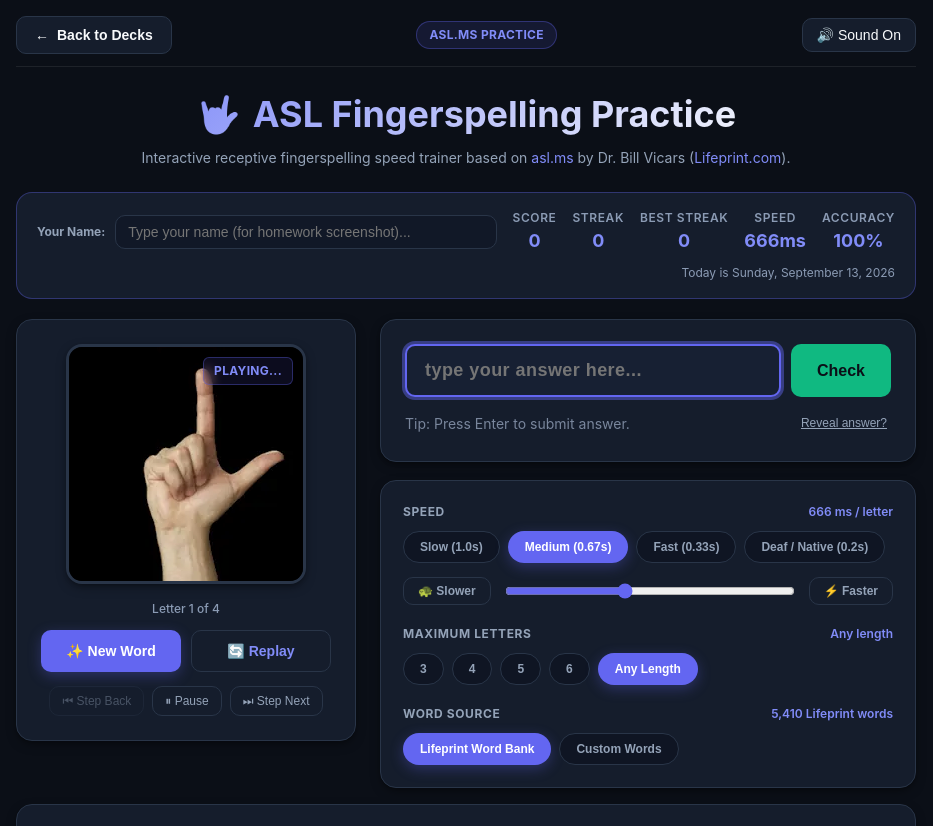
Tier 2: Boundary, Edge & Corner Cases › Boundary Area 5: Fingerspelling Tempo Limits & Word Bank Extremes › 5.2: Slow speed preset button sets 1000ms tempo
The image size is (933, 826).
Click the button "Slow (1.0s)". click: [451, 547]
box: [403,531,500,563]
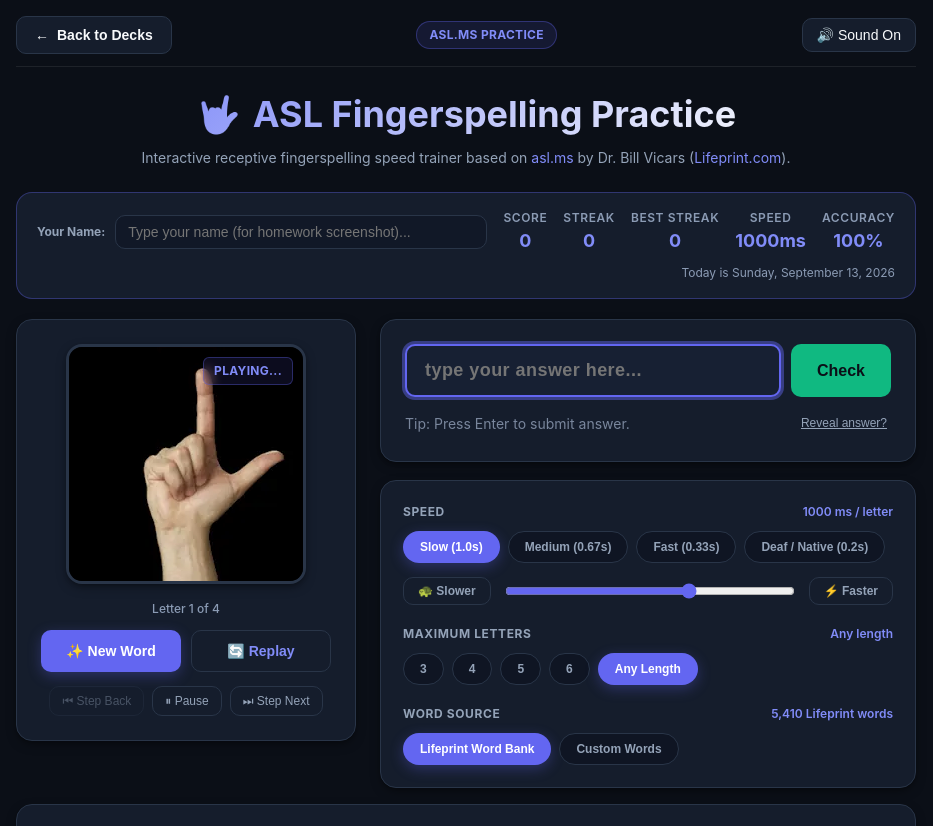
Now the text "1000 ms / letter" is shown, box [803,503,893,521]
